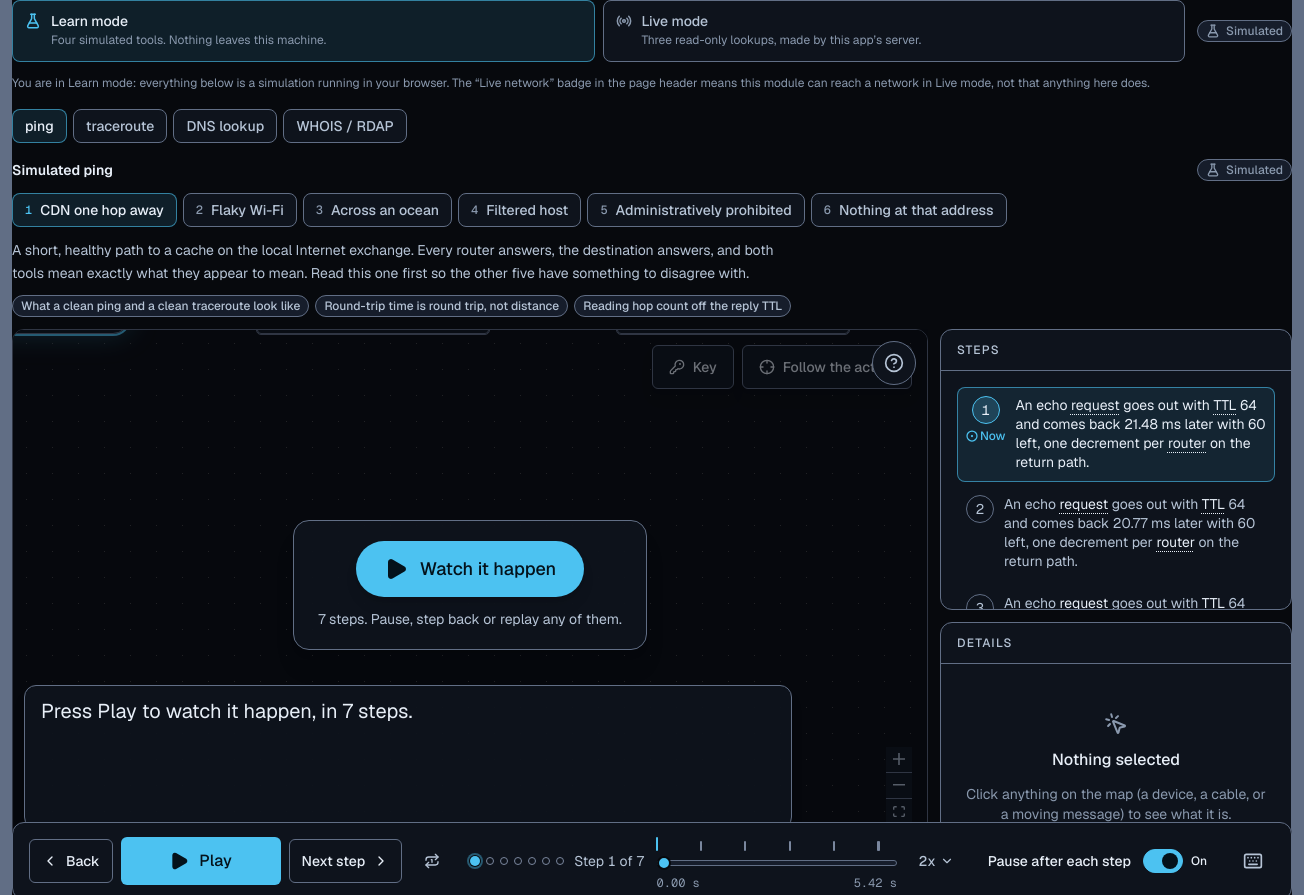
Test: the corrections each tool exists to make › puts the warm run beside the cold one on a lookup
Click the button "DNS lookup": {"x": 225, "y": 126} [173,109,277,143]
(page scrolled)
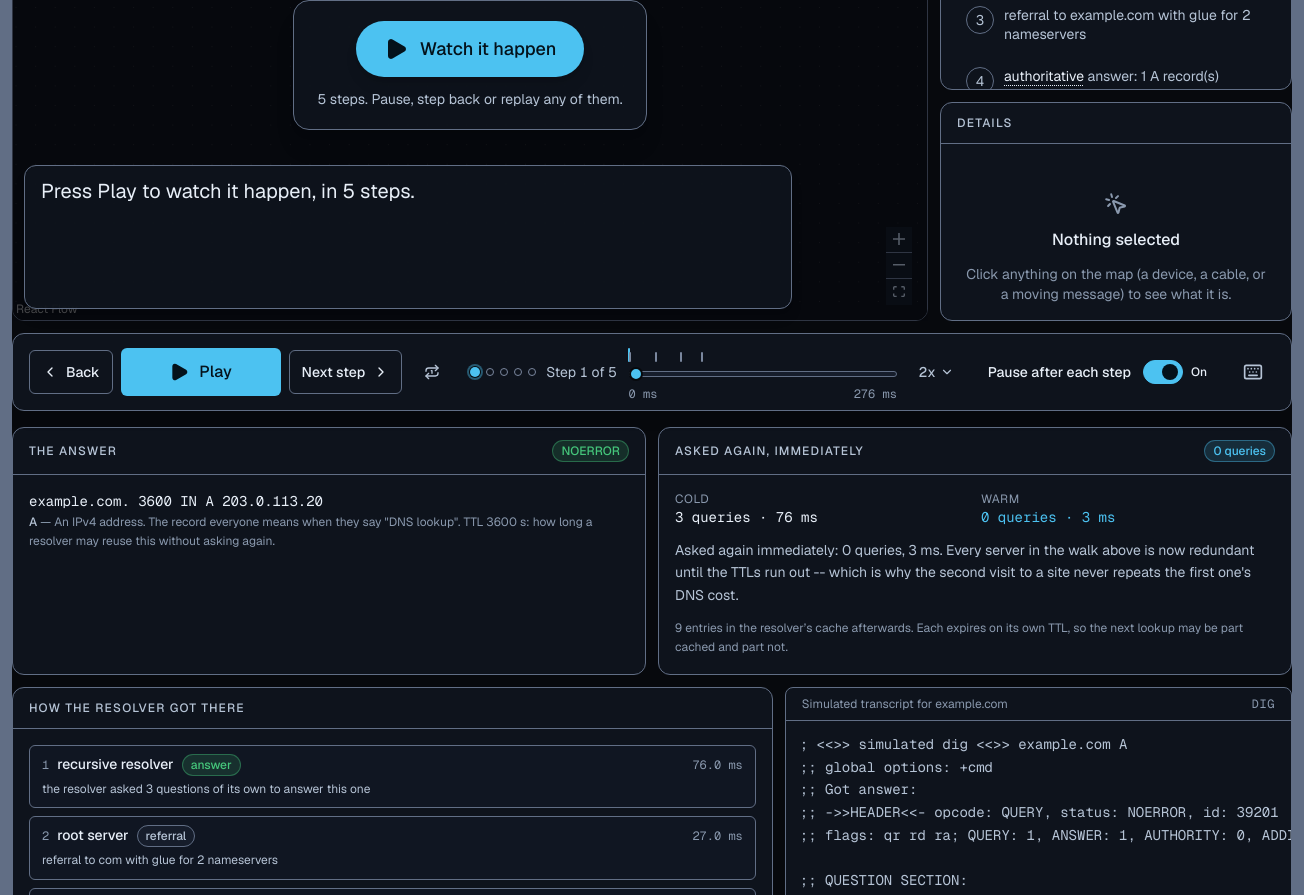
Check: the heading "Asked again, immediately" is shown, box [675,442,864,458]
Check: the text "0 queries" is shown, box [1204,440,1275,462]
